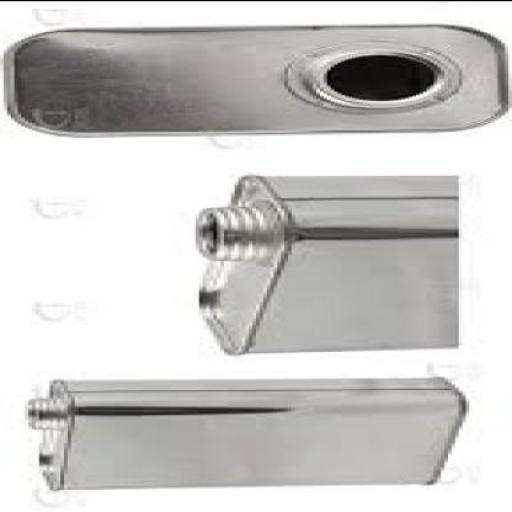metal: (4, 25, 508, 136), (25, 376, 466, 490), (192, 177, 458, 356)
